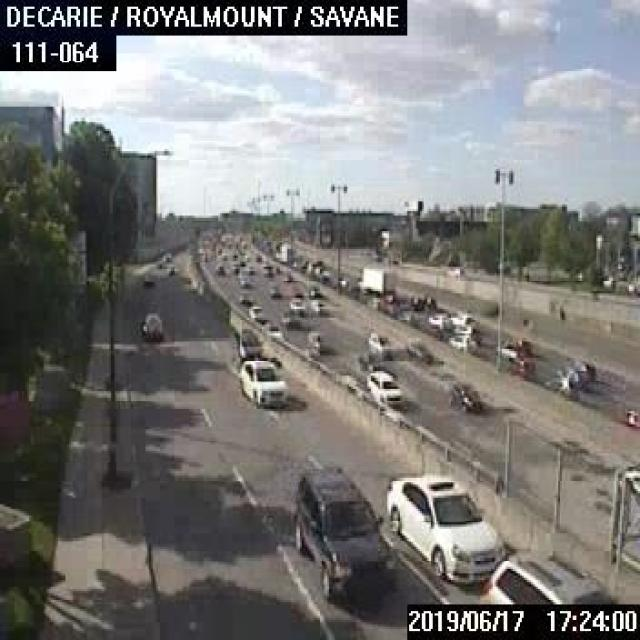vehicle: (292, 466, 394, 604), (385, 474, 506, 584), (484, 550, 616, 604), (237, 356, 287, 406), (364, 368, 404, 407), (447, 381, 482, 414), (355, 265, 394, 293), (556, 367, 583, 393), (405, 335, 431, 362), (140, 311, 164, 340), (366, 330, 392, 356), (448, 333, 476, 353), (427, 312, 451, 329), (624, 407, 638, 429), (287, 296, 304, 313), (308, 297, 325, 313), (247, 302, 264, 318), (238, 290, 251, 304), (267, 284, 279, 296), (142, 274, 153, 285), (214, 264, 224, 274), (238, 276, 248, 286), (166, 263, 175, 273), (163, 251, 170, 259), (155, 258, 161, 266)
